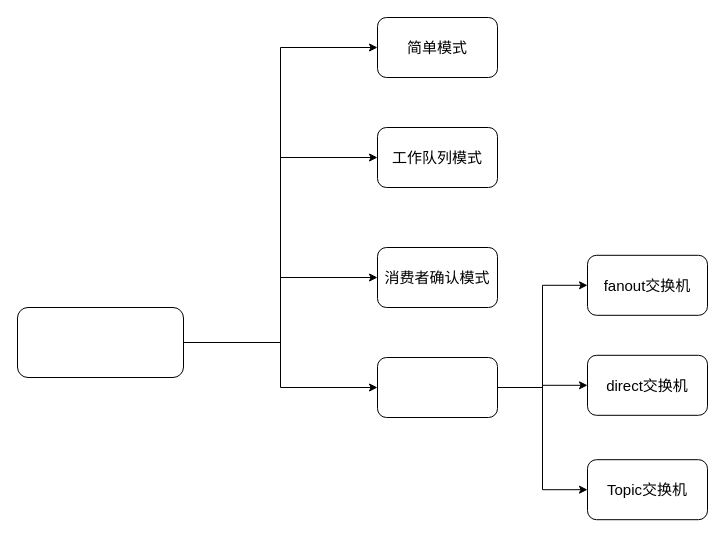
The diagram is 725 pixels wide and 538 high, and some of its shapes have lost their labels. The centre of each missing label's shape, as x and y in pixels:
RabbitMQ工作模式: the point at 100,342
交换机: the point at 437,387
